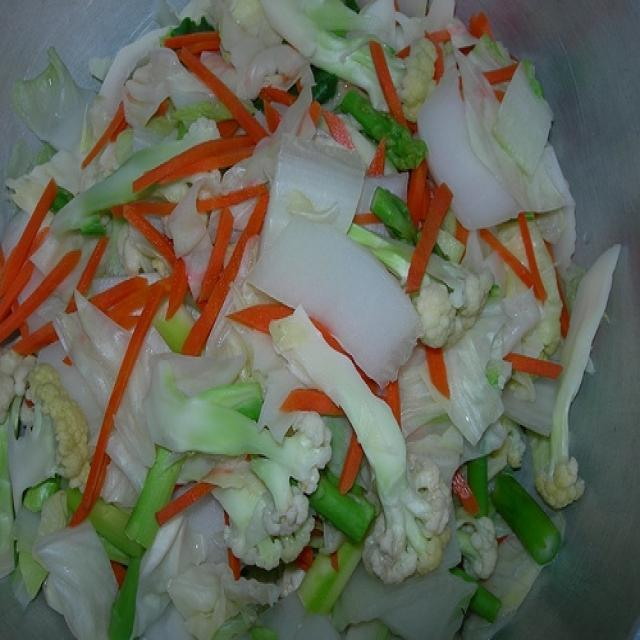蔬菜料理: (22, 26, 598, 609)
